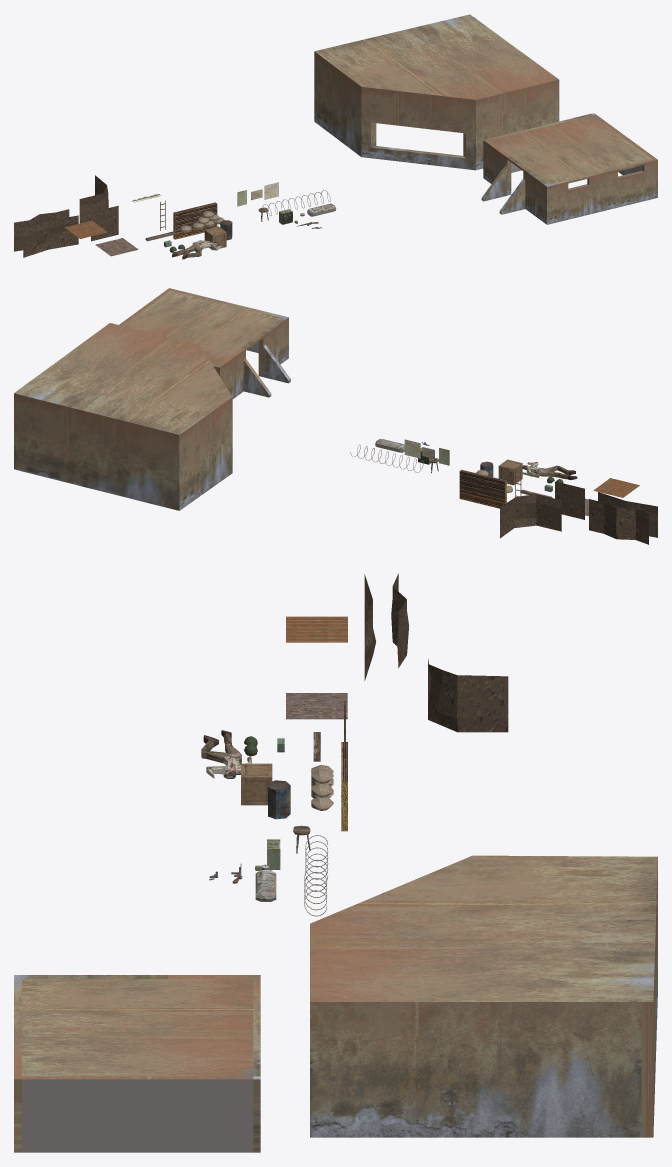
Rendered from Trench.fbx.
The picture shows the model from 3 angles, top to bottom: view 1: azimuth 30°, elevation 25°; view 2: azimuth 150°, elevation 25°; view 3: azimuth 270°, elevation 25°; orthographic projection. The views are drawn at different scales.
Parts seen in each view (by area): view 1: Bunker2, Bunker1, TrenchWall2, Planks, TrenchWallCurved, TrenchWall1, TrenchWall3, HeDead, TrenchGround, MetalRoof, Crate; view 2: Bunker2, Bunker1, TrenchWallCurved, TrenchWall3, Planks, TrenchWall1, TrenchWall2, HeDead, MetalRoof, Crate; view 3: Bunker2, Bunker1, TrenchWallCurved, MetalRoof, TrenchGround, HeDead, Crate, TrenchWall3, SandbagStack, Barrell, TrenchWall2.
Boxes of the visible parts, <box> form: Bunker2: <box>314,14,559,170</box>; Bunker1: <box>481,113,657,224</box>; TrenchWall2: <box>23,215,78,257</box>; Planks: <box>173,202,217,239</box>; TrenchWallCurved: <box>79,175,108,223</box>; TrenchWall1: <box>91,205,118,241</box>; TrenchWall3: <box>14,209,69,251</box>; HeDead: <box>172,240,222,259</box>; TrenchGround: <box>95,238,138,256</box>; MetalRoof: <box>64,220,107,238</box>; Crate: <box>204,226,226,250</box>; Bunker2: <box>14,323,232,510</box>; Bunker1: <box>119,288,290,398</box>; TrenchWallCurved: <box>500,494,561,538</box>; TrenchWall3: <box>589,499,648,544</box>; Planks: <box>459,469,506,508</box>; TrenchWall1: <box>555,481,584,519</box>; TrenchWall2: <box>598,492,657,537</box>; HeDead: <box>522,462,577,479</box>; MetalRoof: <box>593,478,639,497</box>; Crate: <box>498,459,522,485</box>; Bunker2: <box>310,855,657,1137</box>; Bunker1: <box>14,975,260,1152</box>; TrenchWallCurved: <box>428,658,508,732</box>; MetalRoof: <box>286,616,347,642</box>; TrenchGround: <box>286,693,347,719</box>; HeDead: <box>201,730,252,778</box>; Crate: <box>241,763,272,805</box>; TrenchWall3: <box>391,573,408,667</box>; SandbagStack: <box>311,769,333,810</box>; Barrell: <box>268,780,290,819</box>; TrenchWall2: <box>364,574,376,680</box>.
Size of the model in its own units: 3923 by 512 by 2086.
Materials: 27 (27 with a texture image).
